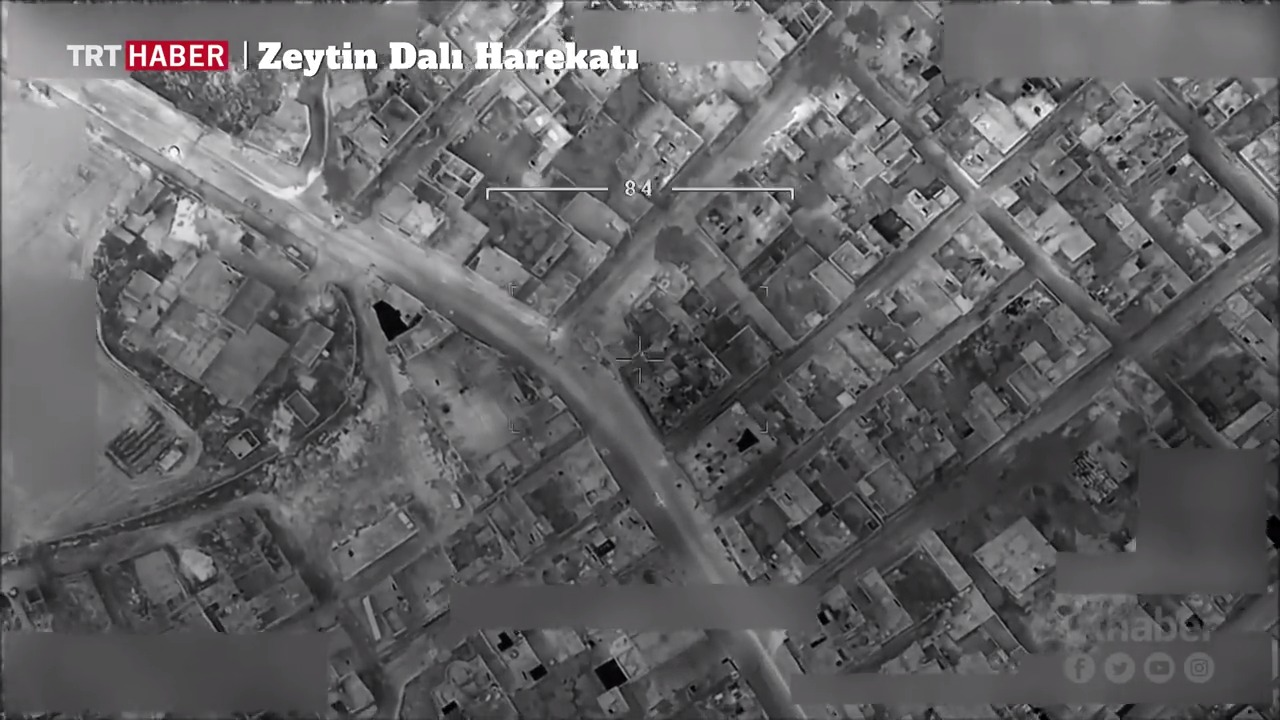bina: (929, 208, 1026, 307), (692, 174, 799, 263), (377, 176, 458, 236)
